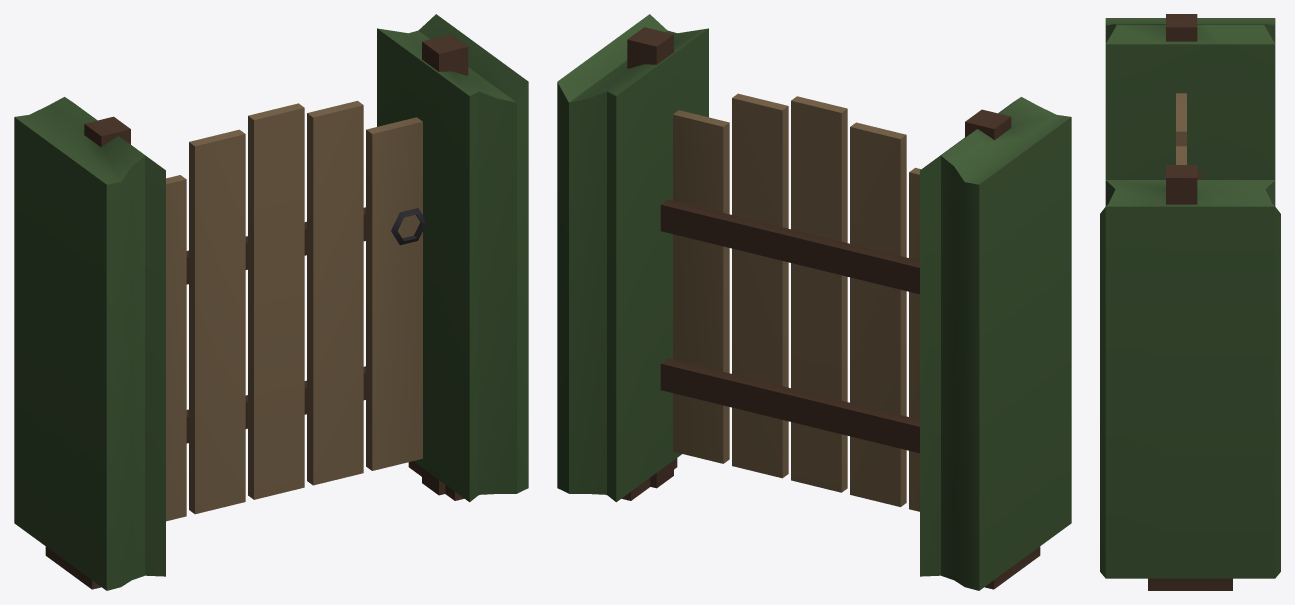
File: fence_hedge_gate.glb
3 renders of one model, left to right at view 1: azimuth 30°, elevation 25°; view 2: azimuth 150°, elevation 25°; view 3: azimuth 270°, elevation 25°, orthographic. The views are drawn at different scales.
Visible parts, largest first — view 1: fence_hedge_gate, door; view 2: fence_hedge_gate, door; view 3: fence_hedge_gate, door.
Boxes of the visible parts, bbox=[...] form: fence_hedge_gate: bbox=[14, 14, 528, 590]; door: bbox=[166, 100, 426, 521]; fence_hedge_gate: bbox=[557, 14, 1071, 590]; door: bbox=[660, 93, 920, 511]; fence_hedge_gate: bbox=[1100, 14, 1280, 590]; door: bbox=[1176, 93, 1201, 179].
Size of the model in its own units: 1 by 1 by 0.4049.
